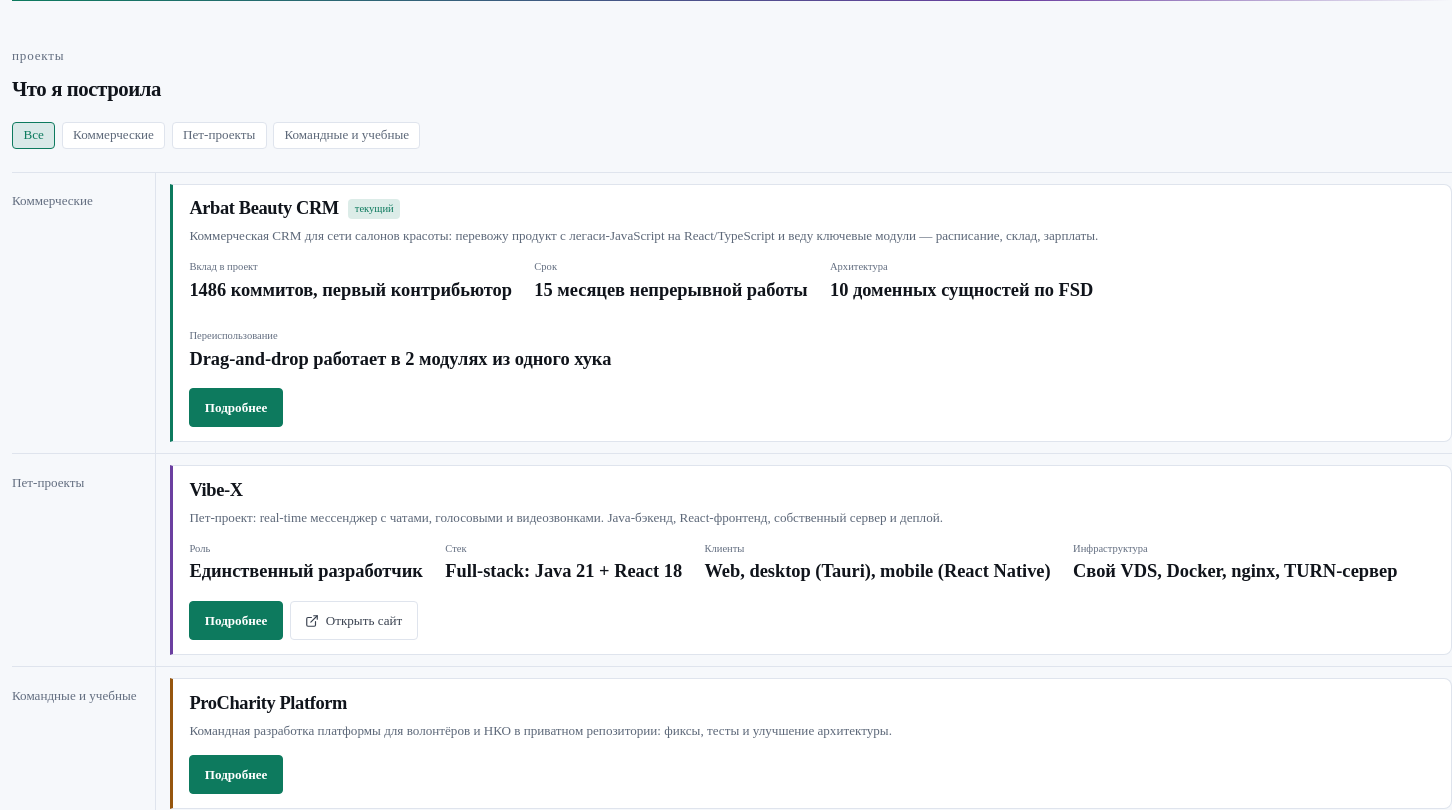
Projects › narrows the list to the chosen category
Click the button "Пет-проекты": (219, 136) top-left (172, 122), bottom-right (267, 149)
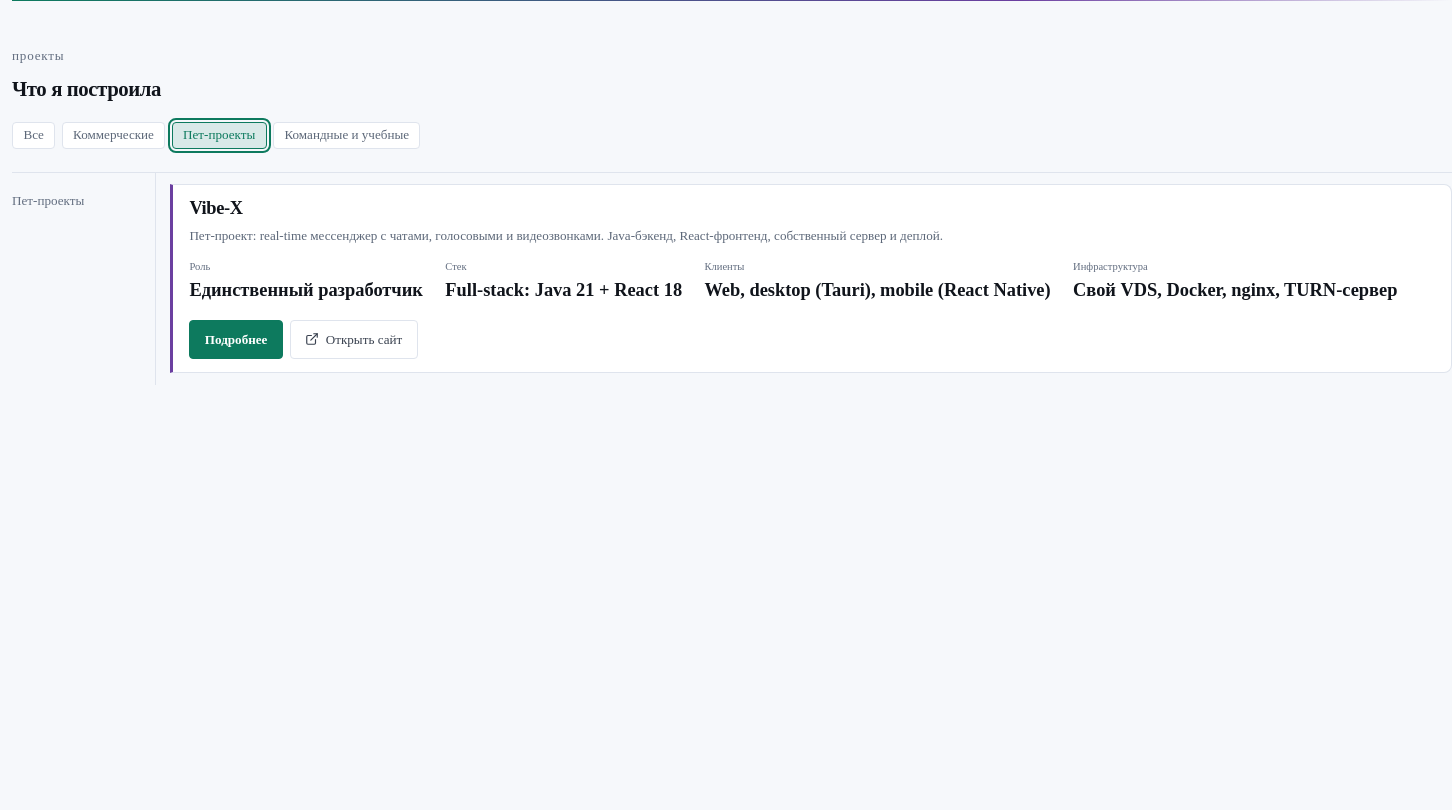
Expected: the heading "Vibe-X" is shown, top-left (189, 198), bottom-right (243, 220)
Result: the heading "Arbat Beauty CRM" is gone
